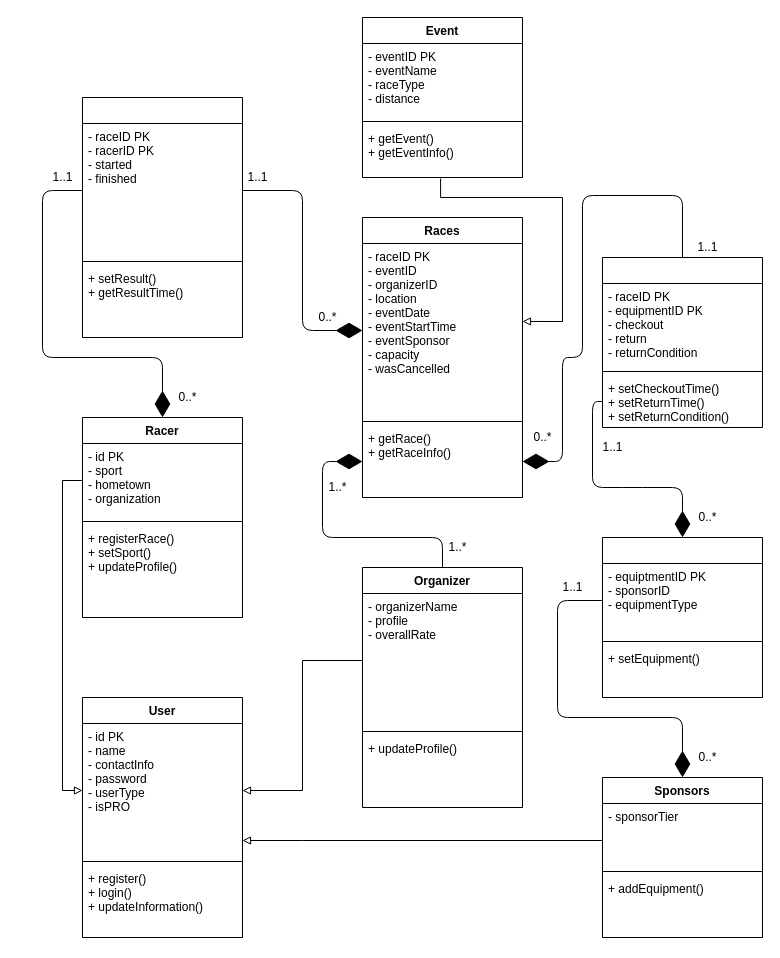
This 780x958 diagram has some shape labels left out. The box of each missing label's shape, as (x1, y1, x2, y2) in pixels:
EquipmentLog: (602, 256, 762, 428)
RaceEquipment: (602, 536, 762, 698)
RaceResults: (82, 96, 242, 338)
